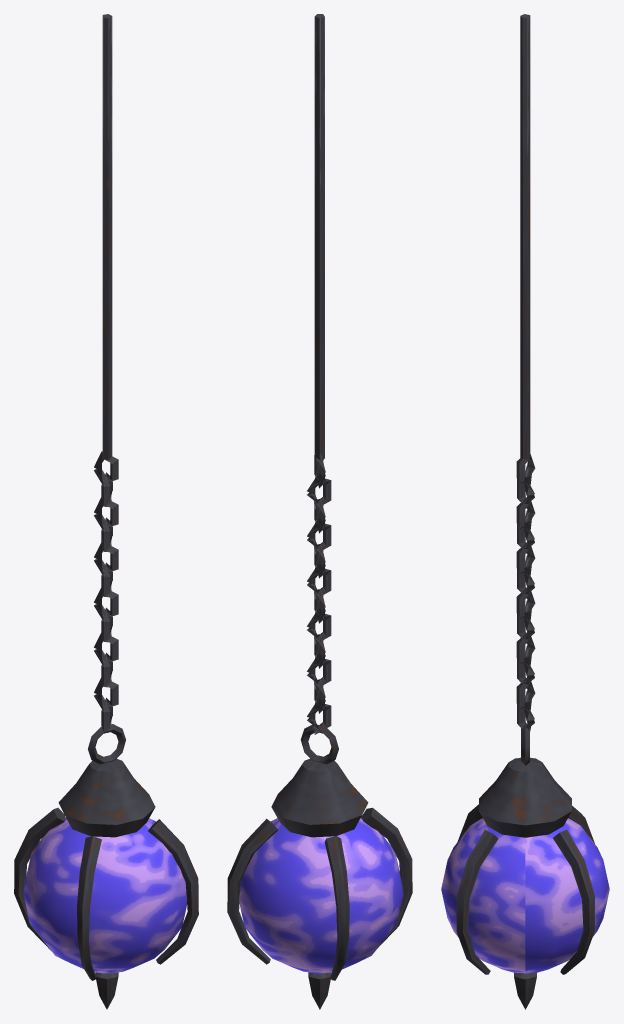
The model's file is Lamp_Orb.fbx.
The picture shows the model from 3 angles, left to right: view 1: azimuth 30°, elevation 25°; view 2: azimuth 150°, elevation 25°; view 3: azimuth 270°, elevation 25°; orthographic projection.
Visible parts, largest first — view 1: Lamp_Orb; view 2: Lamp_Orb; view 3: Lamp_Orb.
Boxes of the visible parts, x1=… form: Lamp_Orb: x1=14, y1=14, x2=198, y2=1009; Lamp_Orb: x1=227, y1=14, x2=412, y2=1009; Lamp_Orb: x1=441, y1=14, x2=609, y2=1009.
Size of the model in its own units: 0.38 by 2.47 by 0.38.
Materials: 2 (2 with a texture image).
